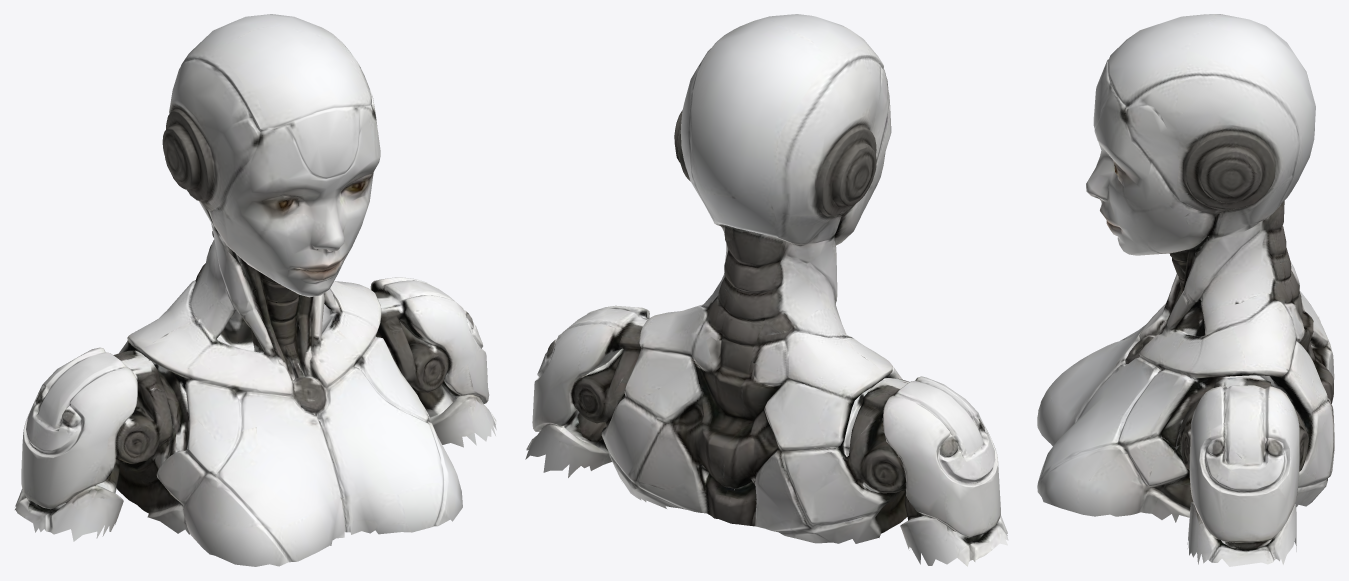
File: android-bust-lod.glb
3 renders of one model, left to right at view 1: azimuth 30°, elevation 25°; view 2: azimuth 150°, elevation 25°; view 3: azimuth 270°, elevation 25°, orthographic. The views are drawn at different scales.
Visible parts, largest first — view 1: android; view 2: android; view 3: android.
Boxes of the visible parts, x1,y1,x2,y2 form: android: (15, 14, 496, 566); android: (525, 14, 1008, 566); android: (1037, 14, 1334, 566).
Size of the model in its own units: 0.4998 by 0.4809 by 0.2916.
Materials: 1 (1 with a texture image).
